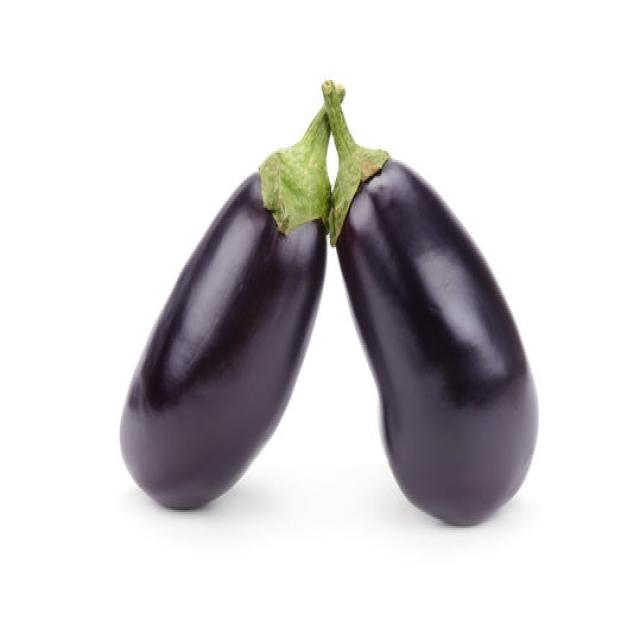Eggplant: (321, 76, 539, 526), (117, 78, 335, 510)
